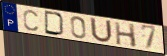0: (69, 16, 88, 40)
7: (140, 24, 157, 52)
C: (22, 9, 40, 32)
D: (44, 10, 67, 37)
H: (113, 21, 138, 49)
U: (89, 16, 114, 44)
